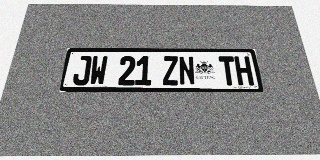1: (135, 56, 151, 85)
2: (118, 56, 136, 85)
H: (234, 56, 254, 85)
J: (72, 56, 92, 85)
N: (178, 56, 195, 85)
T: (218, 56, 238, 85)
W: (89, 56, 108, 85)
Z: (163, 56, 179, 85)
